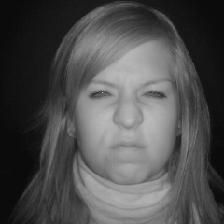sad: (39, 4, 214, 188)
